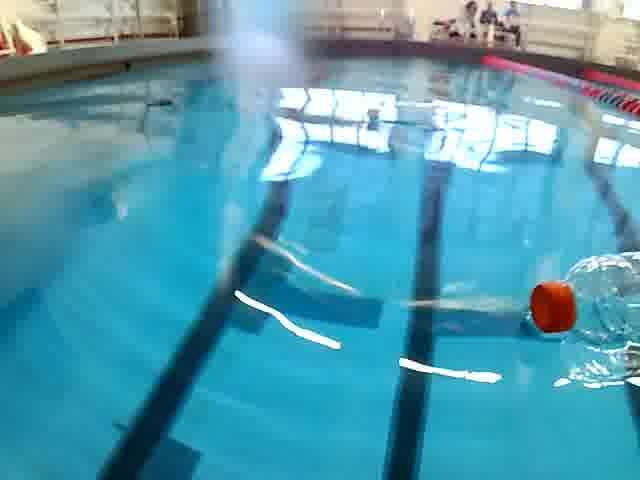Bottle: (521, 245, 640, 350)
